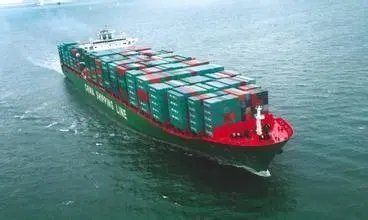Cargoship: (53, 22, 294, 175)
